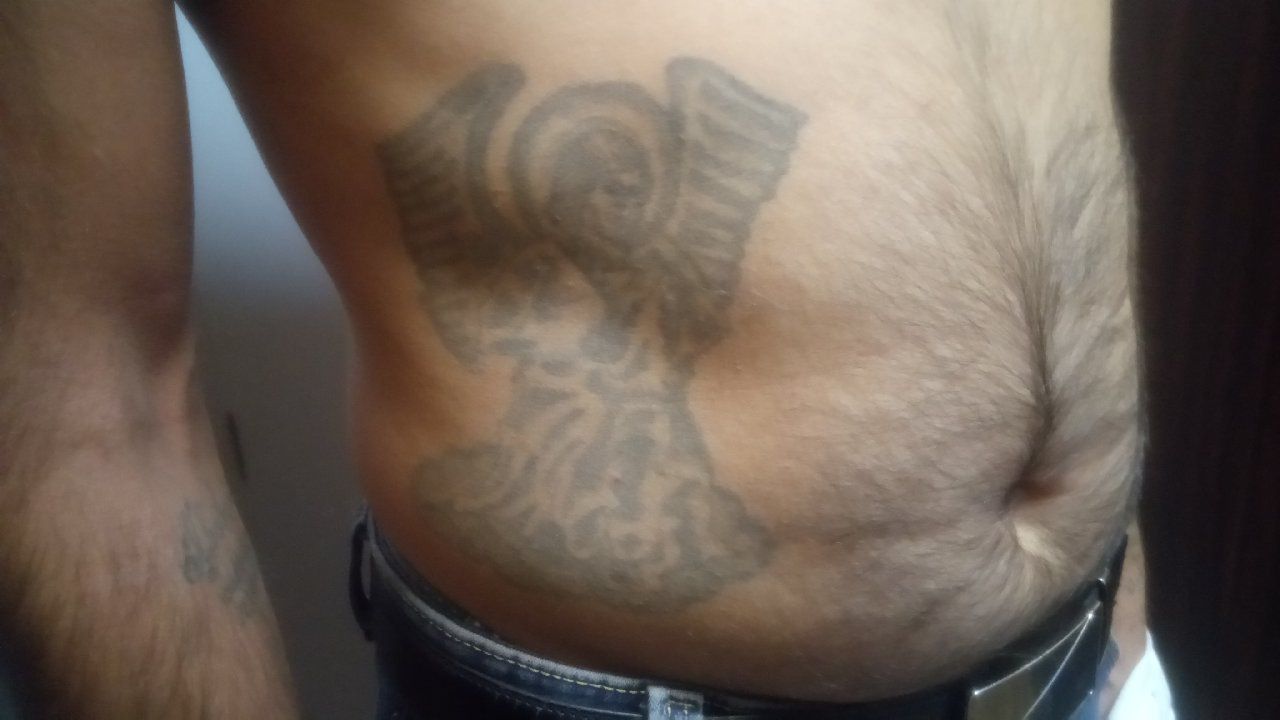tatu1_angel: (376, 53, 810, 607)
